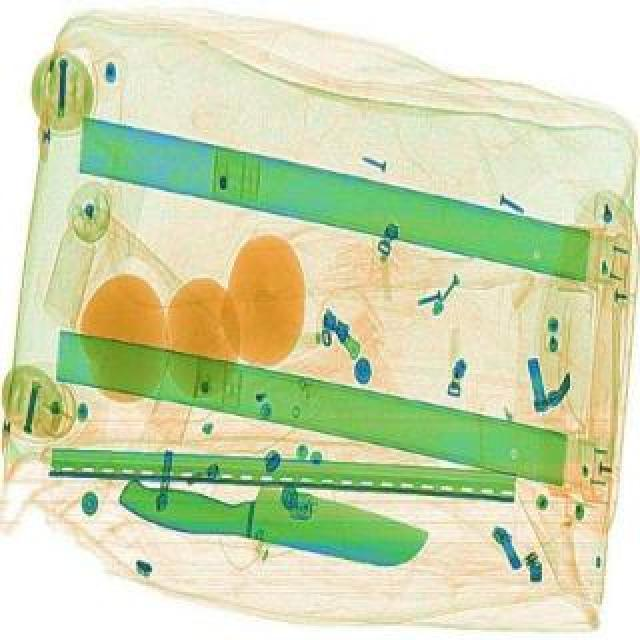knife: (112, 464, 432, 570)
